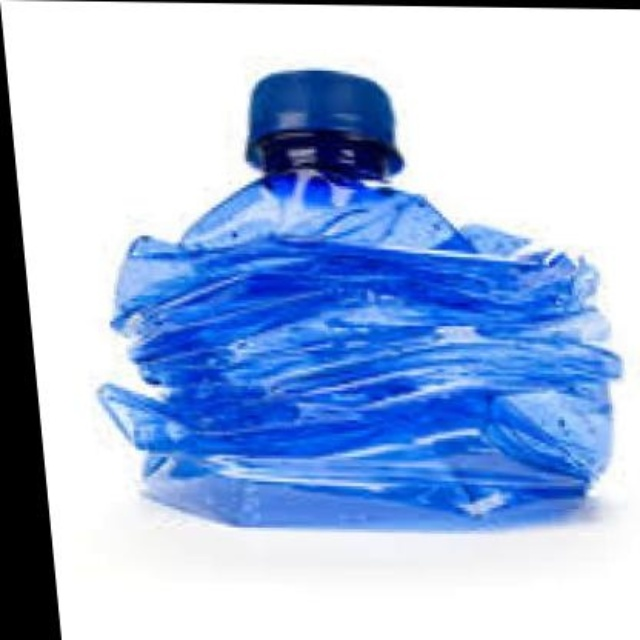trash: (100, 71, 620, 528)
